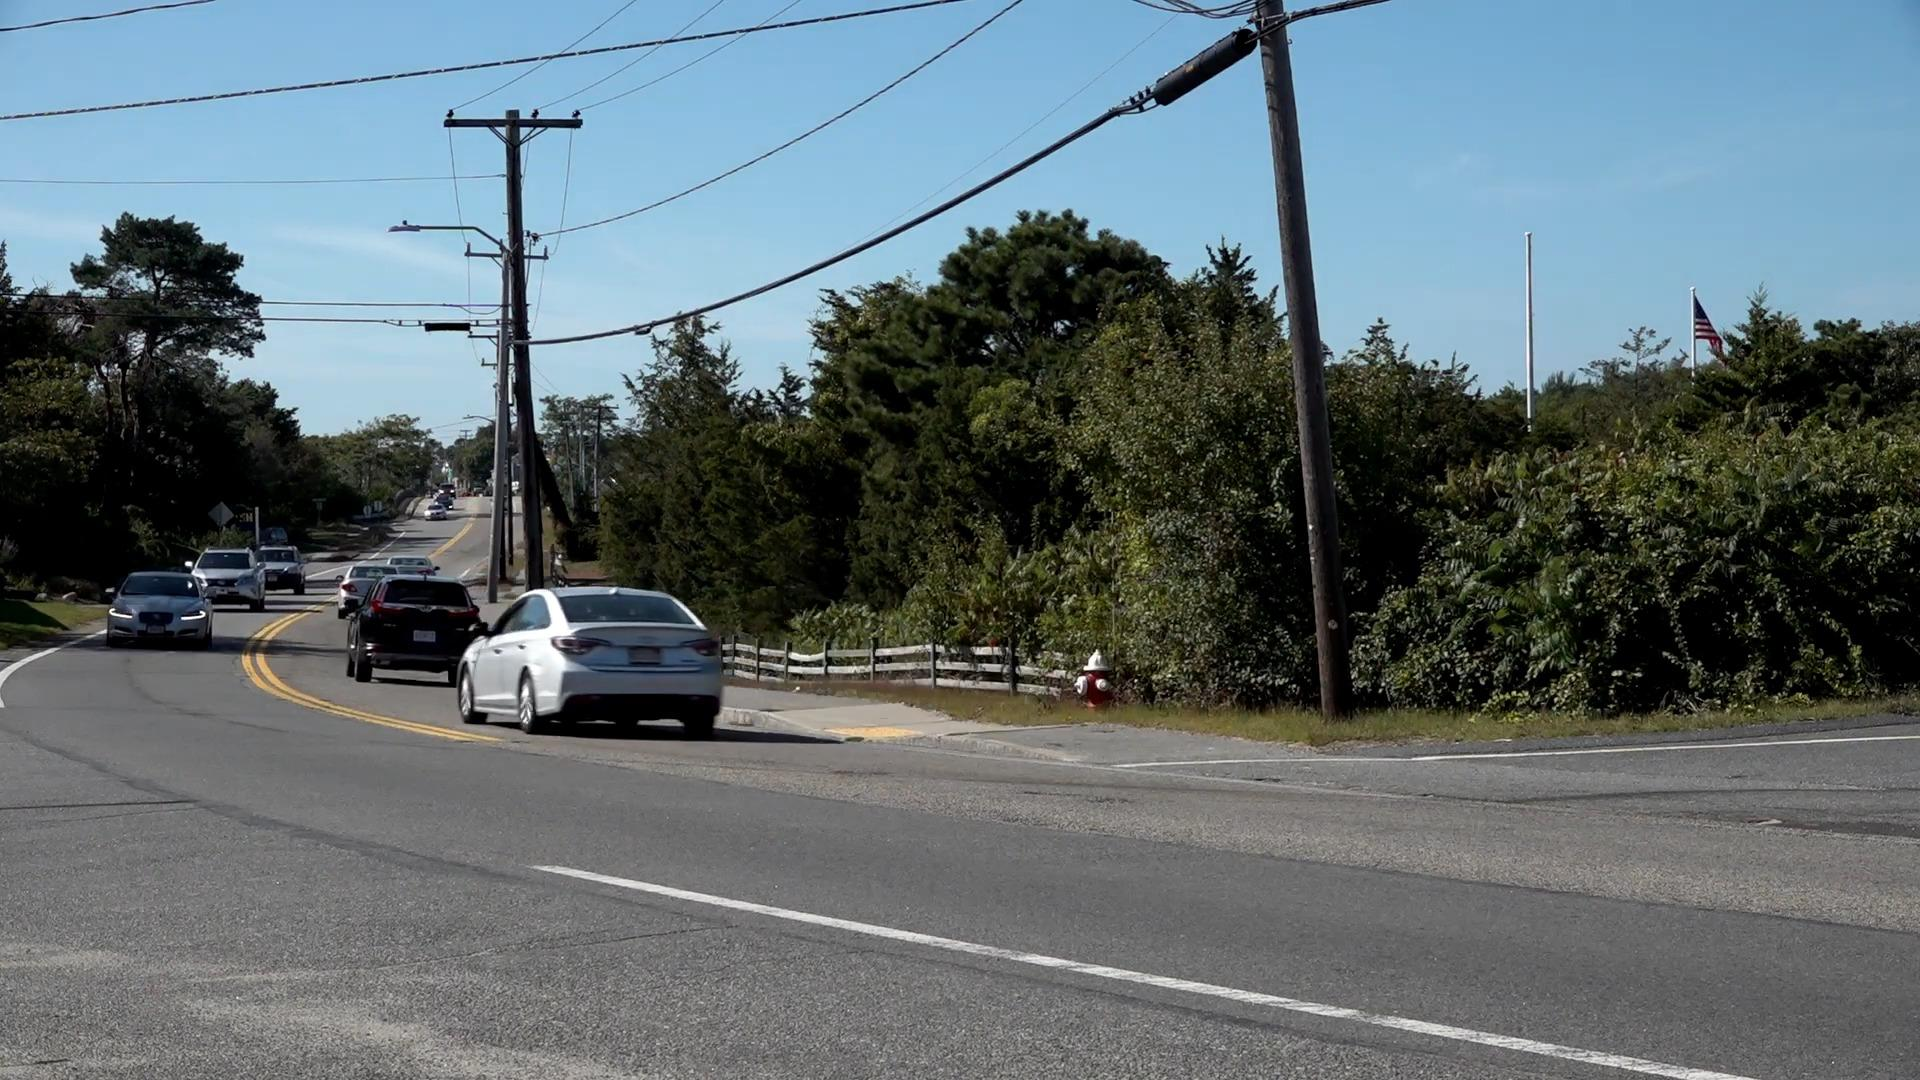sedans: (455, 583, 729, 746), (112, 567, 212, 647)
suv: (343, 575, 481, 682)
